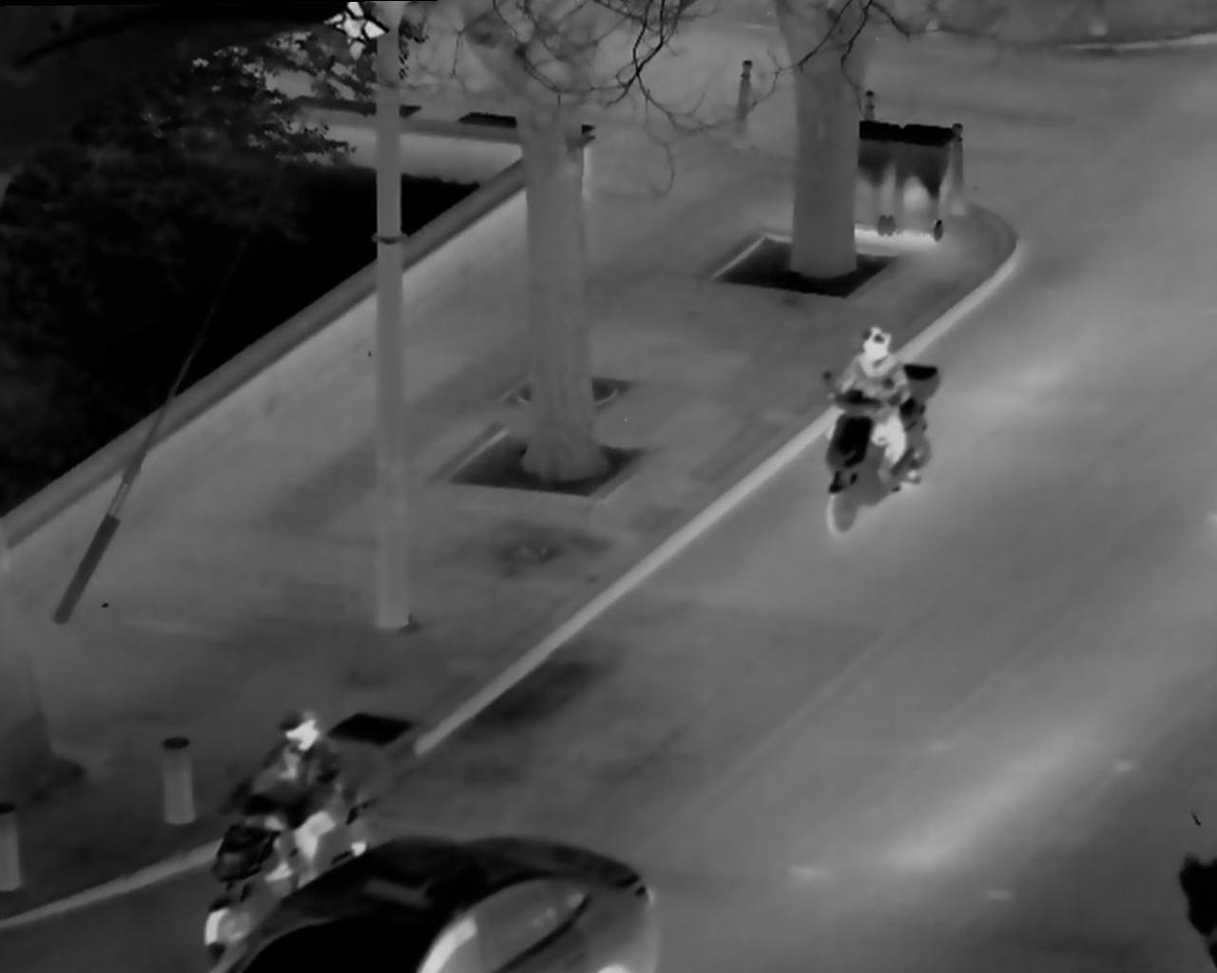person: (227, 698, 370, 897), (816, 313, 925, 508)
